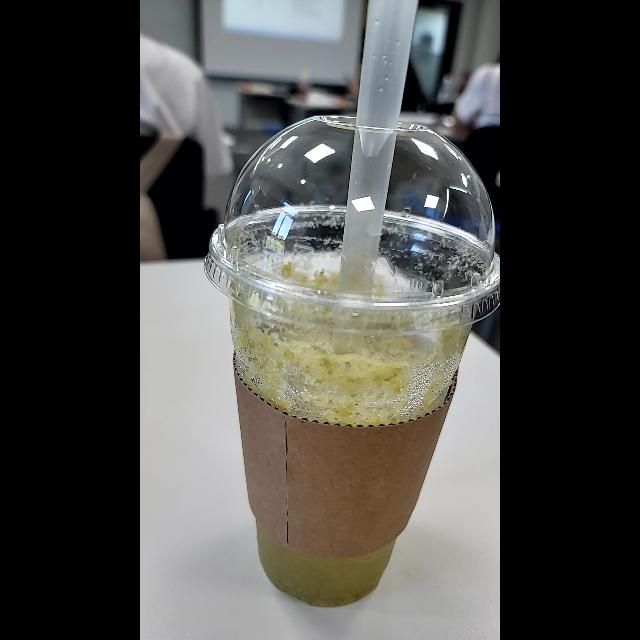plastic_cup: (200, 112, 500, 612)
plastic_cup_lid: (204, 112, 500, 340)
straw: (345, 0, 415, 304)
